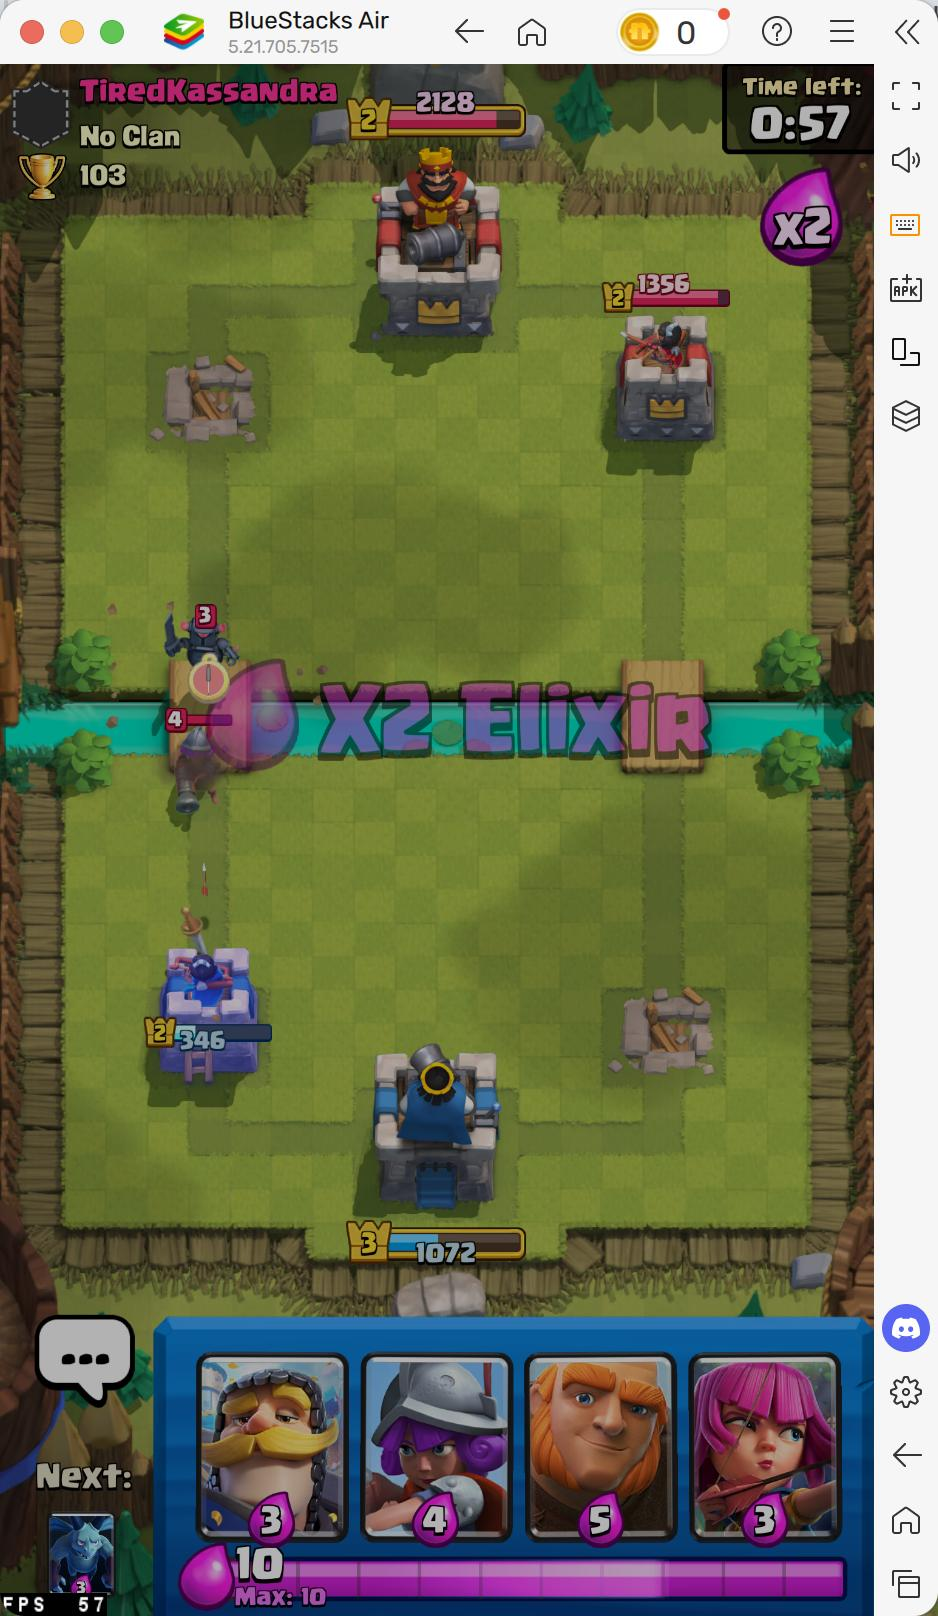0: (748, 103, 785, 145), (250, 1543, 286, 1586), (424, 1241, 447, 1266)
1: (233, 1541, 253, 1585), (429, 87, 443, 116), (413, 1239, 428, 1267), (635, 270, 648, 296)
2: (439, 86, 459, 116), (414, 87, 433, 117), (459, 1239, 479, 1266)
3: (257, 1500, 284, 1539), (752, 1501, 777, 1538), (178, 1028, 197, 1052), (645, 270, 662, 296), (74, 1579, 87, 1595)
4: (420, 1503, 449, 1538), (193, 1029, 211, 1052)
5: (797, 102, 826, 144), (586, 1501, 613, 1538), (659, 270, 677, 296)
7: (824, 102, 853, 143), (443, 1240, 462, 1266), (673, 270, 692, 296), (209, 1027, 227, 1054)
Battle: (456, 87, 478, 116)
Enemy Tower: (613, 311, 720, 443)
Friendly Tower: (159, 944, 264, 1077)
